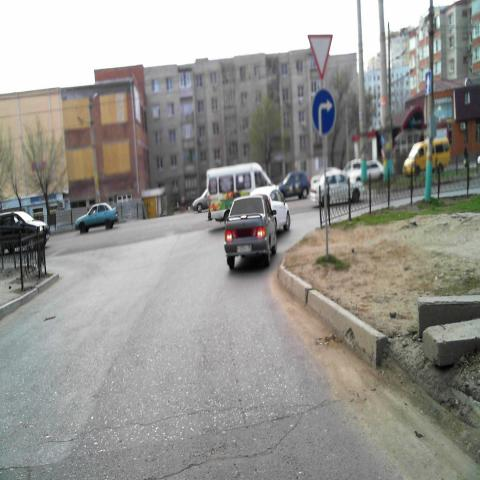2_4: (308, 32, 332, 80)
4_1_2: (311, 88, 337, 136)
